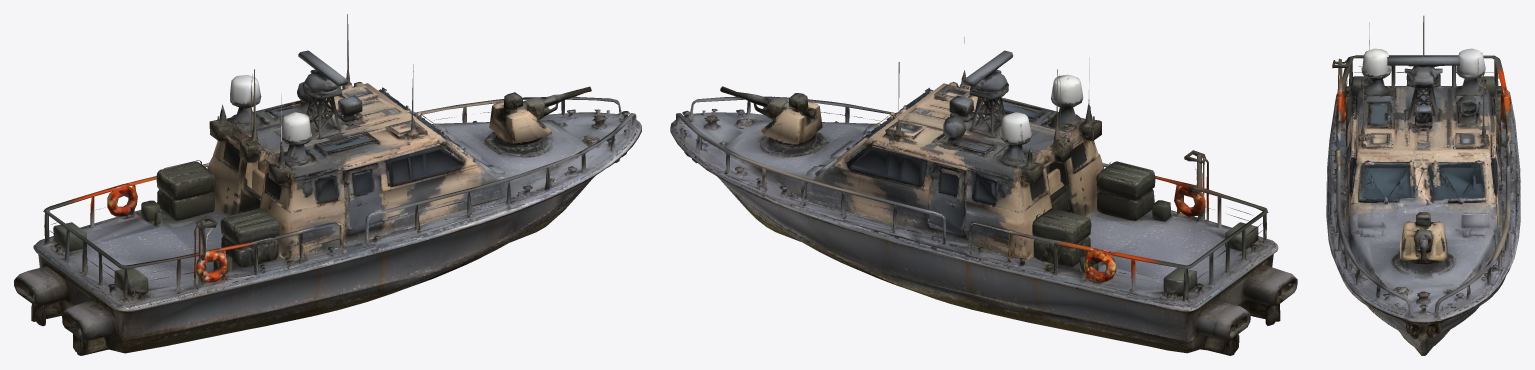
File: boat_patrol.glb
3 renders of one model, left to right at view 1: azimuth 30°, elevation 25°; view 2: azimuth 150°, elevation 25°; view 3: azimuth 270°, elevation 25°, orthographic. The views are drawn at different scales.
Visible parts, largest first — view 1: geometry_0; view 2: geometry_0; view 3: geometry_0.
Part boxes in pixels (box(x1,y1,x2,y2)): geometry_0: box(14, 14, 641, 355); geometry_0: box(670, 37, 1297, 355); geometry_0: box(1326, 15, 1520, 355).
Bounding box in the file's own units: 1.15 × 0.4432 × 0.3546.
Materials: 1 (1 with a texture image).
